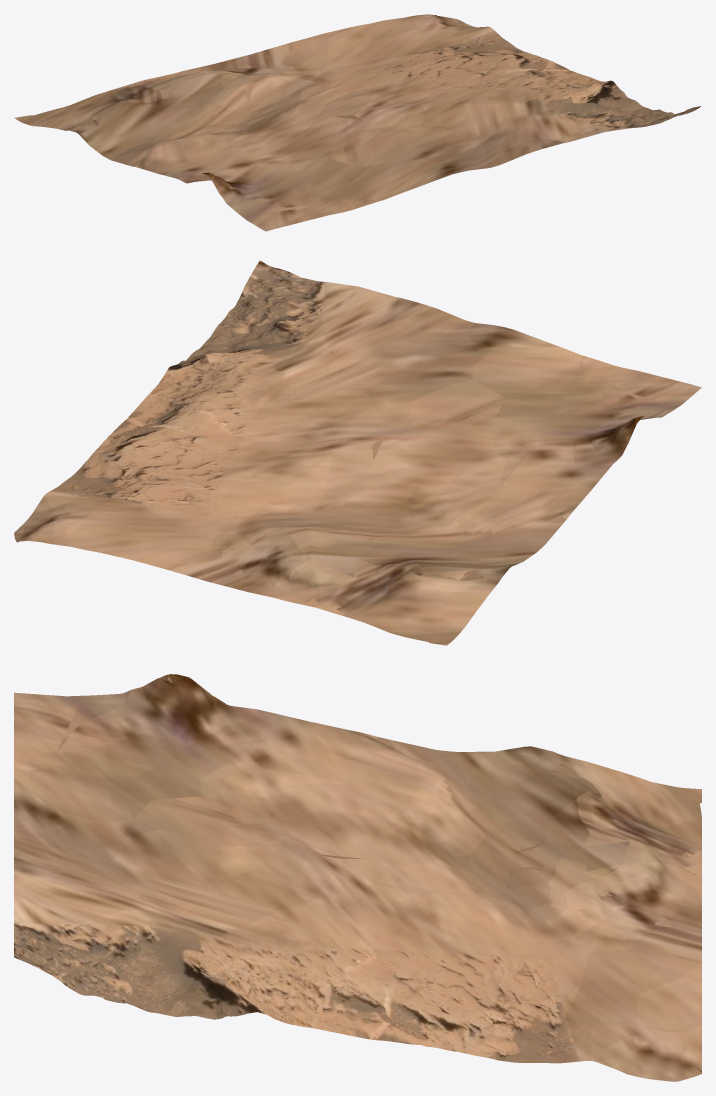
3 views of the same model, one above another, from view 1: azimuth 30°, elevation 25°; view 2: azimuth 150°, elevation 25°; view 3: azimuth 270°, elevation 25° (orthographic). The views are drawn at different scales.
Bounding box in the file's own units: 1.04 × 0.2086 × 1.04.
Materials: 2 (2 with a texture image).
